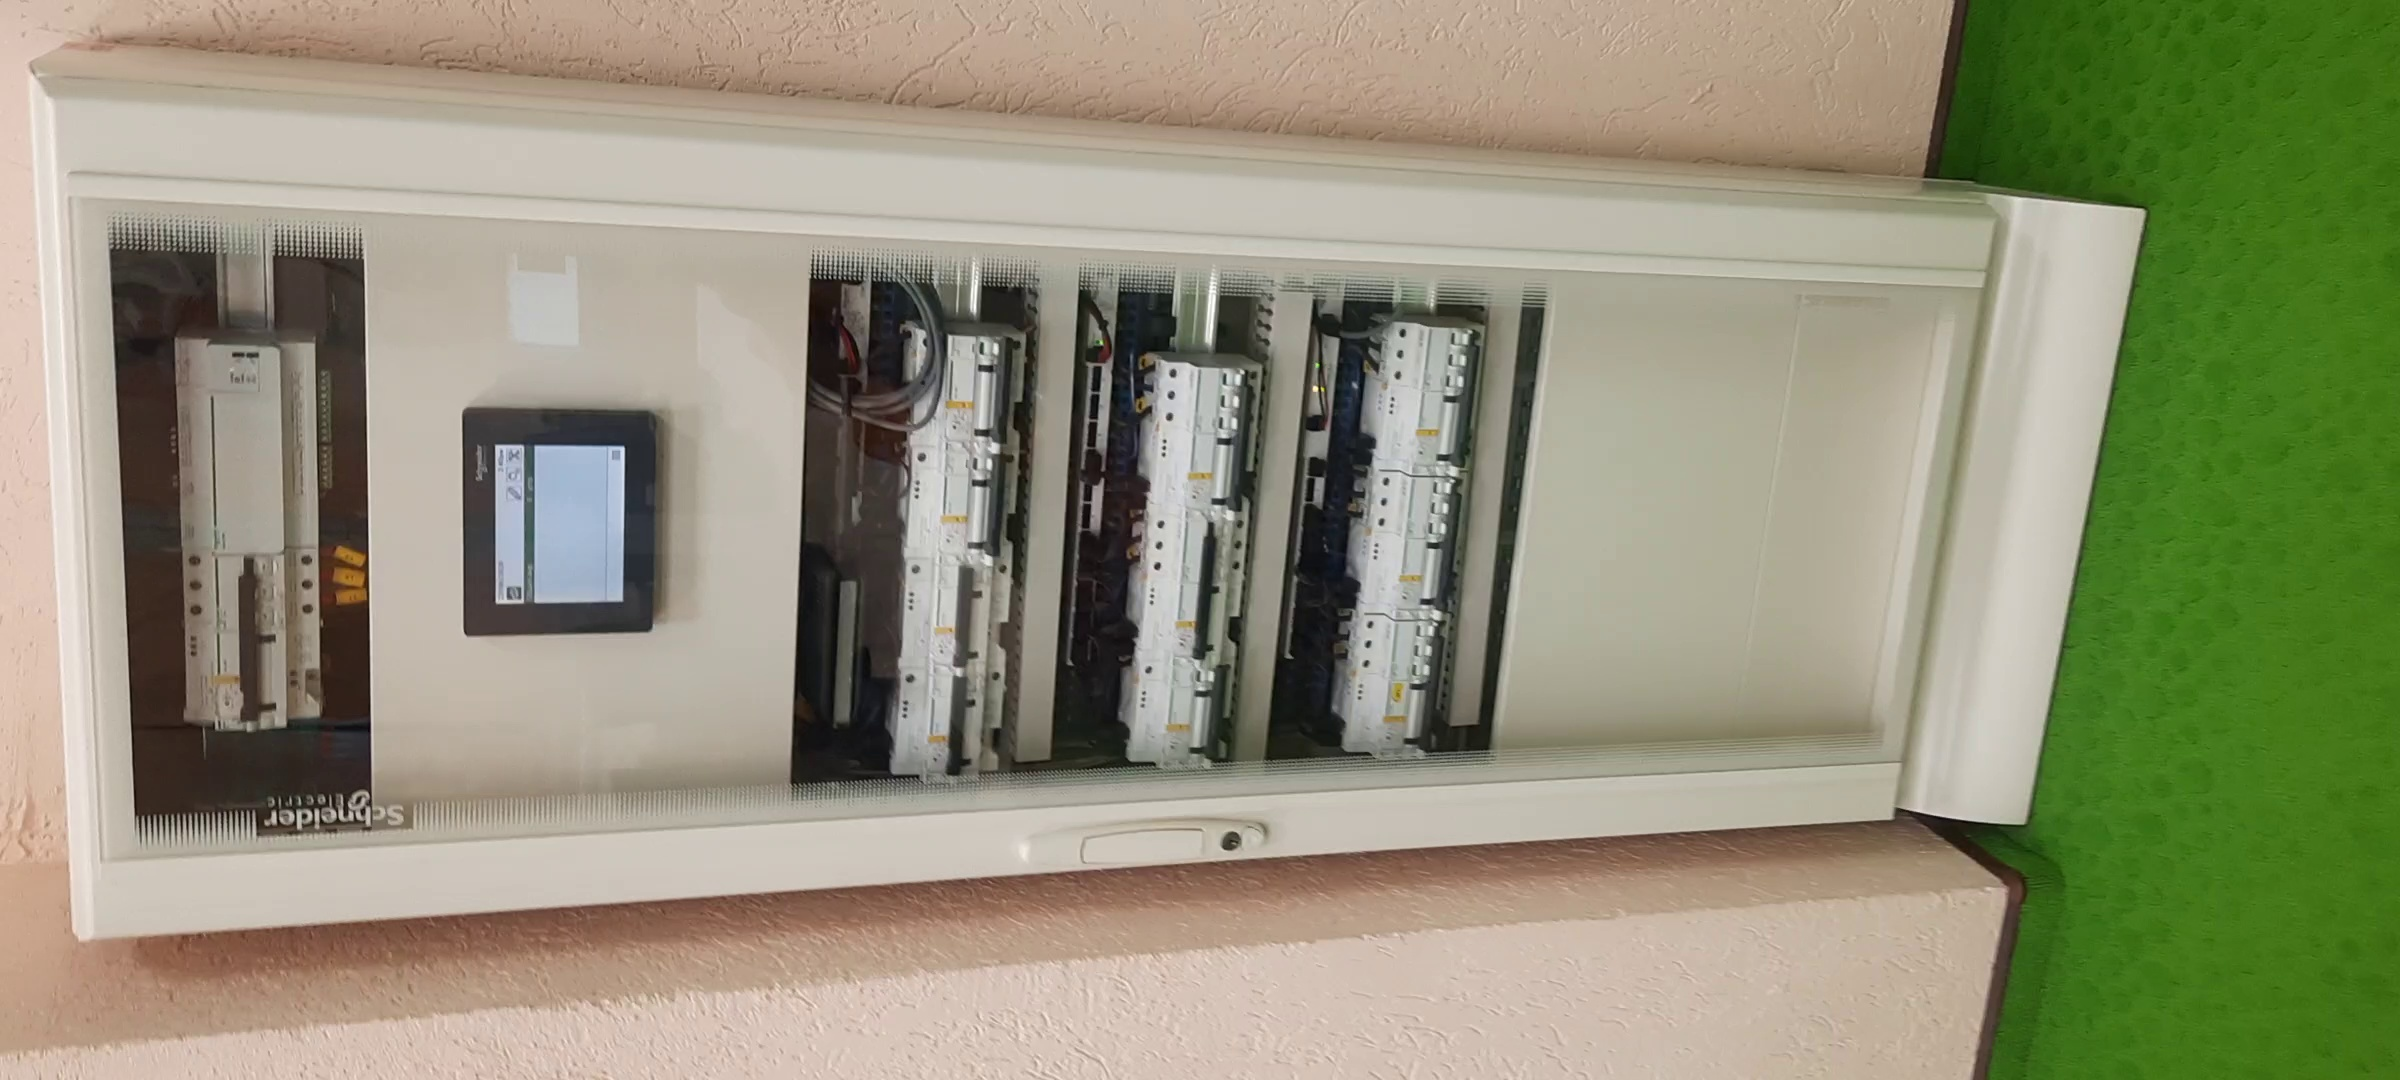smart_stand: (24, 47, 2112, 939)
